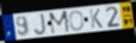2: (105, 6, 122, 29)
9: (15, 16, 30, 38)
J: (34, 13, 47, 36)
K: (88, 8, 104, 30)
M: (48, 10, 72, 36)
O: (68, 10, 85, 32)
